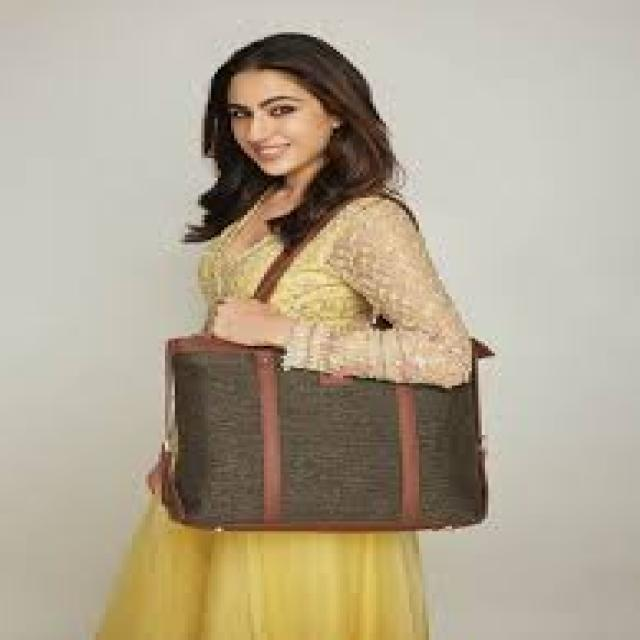handbag: (158, 329, 492, 531)
